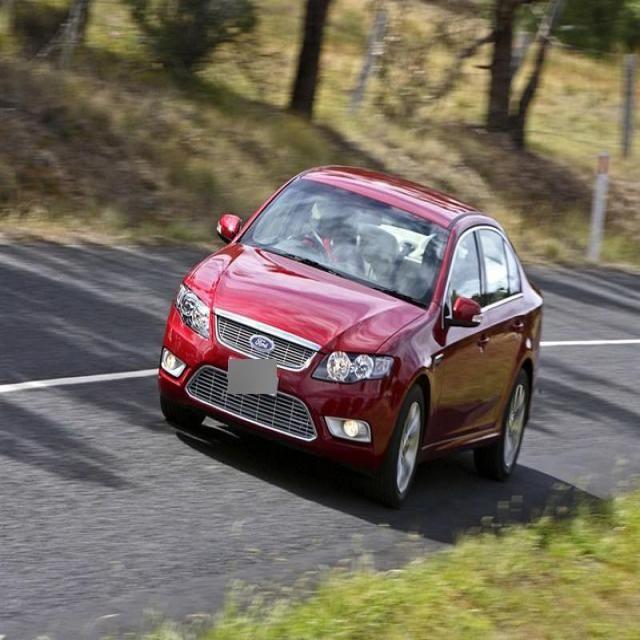front_bumper: (156, 299, 399, 467)
front_glass: (238, 171, 452, 315)
front_left_side_door: (428, 222, 487, 454)
front_left_side_light: (310, 348, 398, 386)
front_left_side_mirror: (445, 296, 483, 328)
front_right_side_light: (172, 278, 214, 344)
front_right_side_mirror: (215, 208, 242, 242)
wheel: (366, 382, 425, 504), (472, 370, 530, 478)
